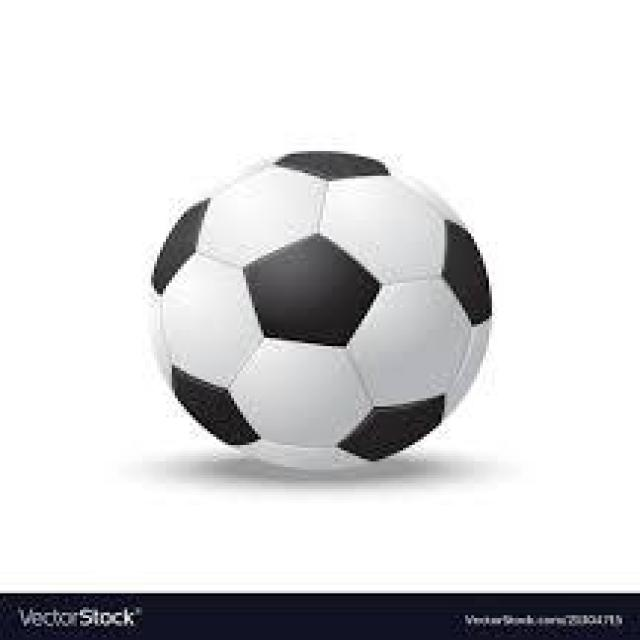Soccer Ball: (145, 146, 495, 475)
